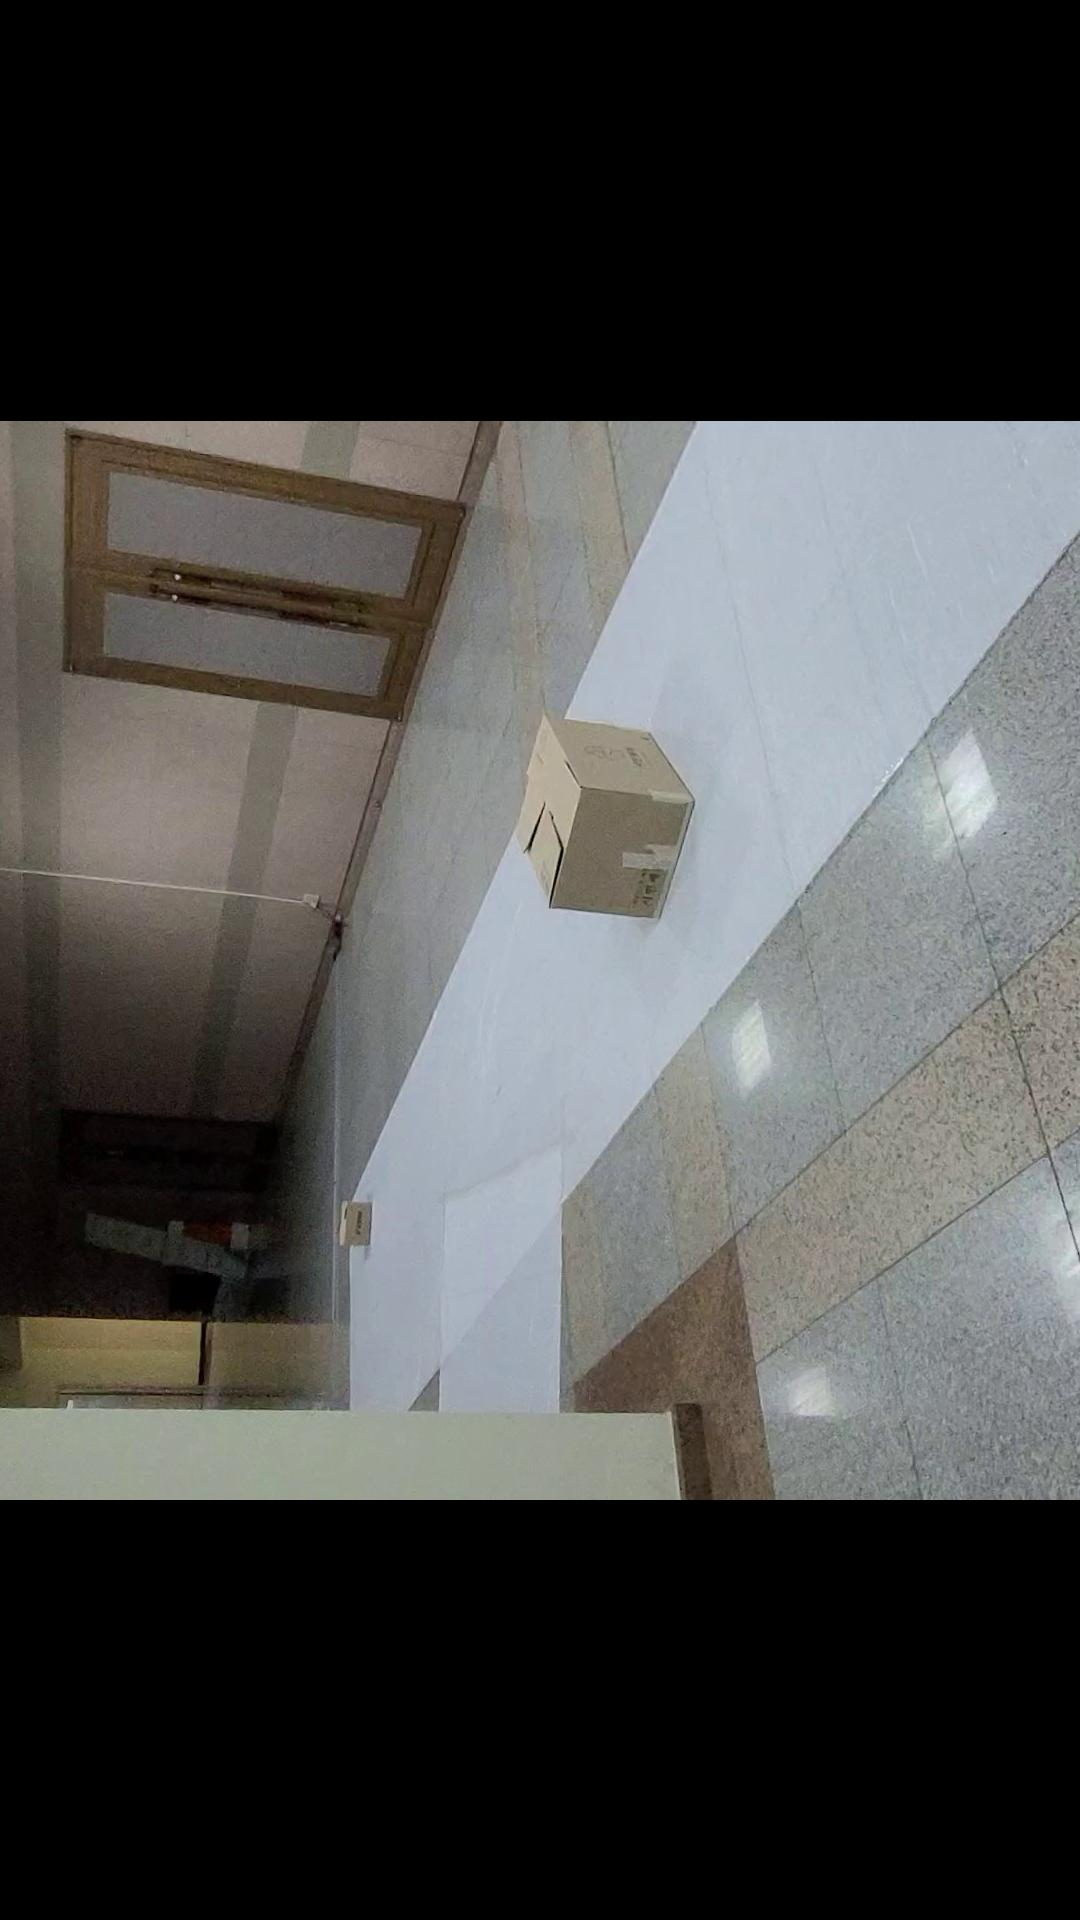Box: (500, 698, 698, 924), (328, 1200, 373, 1249)
